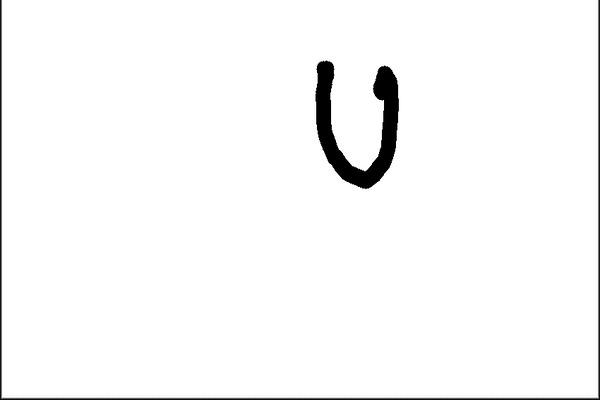U: (305, 58, 420, 199)
